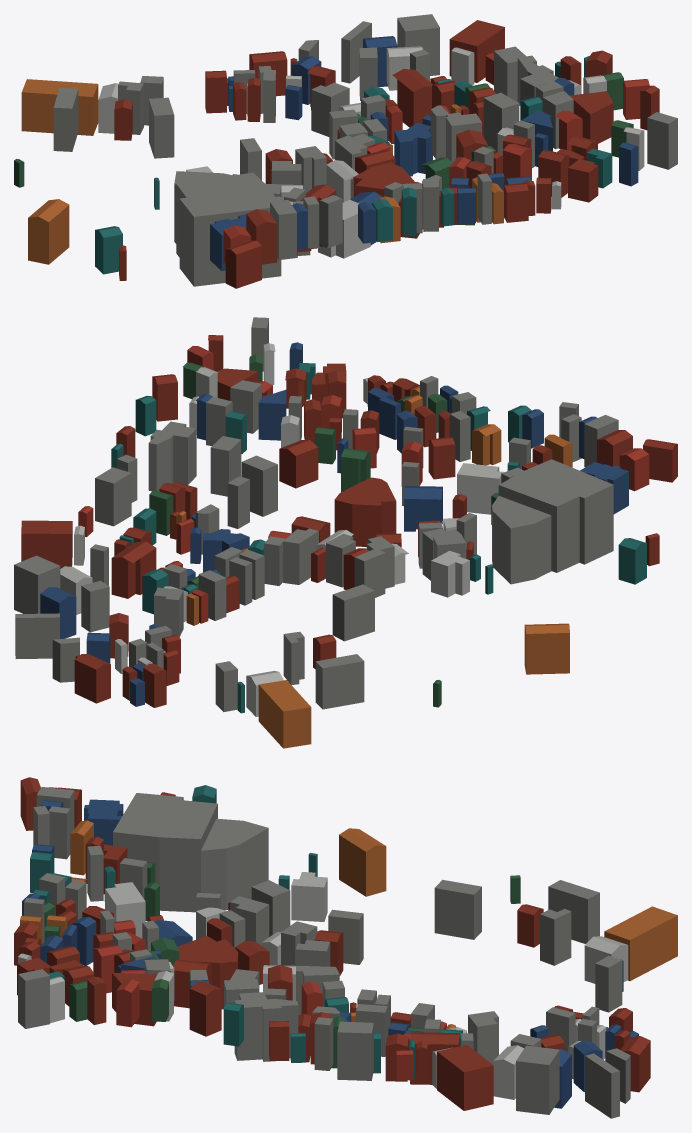
Rendered from near-17-109441-59474.afea8922.glb.
3 renders of one model, top to bottom at view 1: azimuth 30°, elevation 25°; view 2: azimuth 150°, elevation 25°; view 3: azimuth 270°, elevation 25°, orthographic. The views are drawn at different scales.
Size of the model in its own units: 303 by 87.69 by 312.
